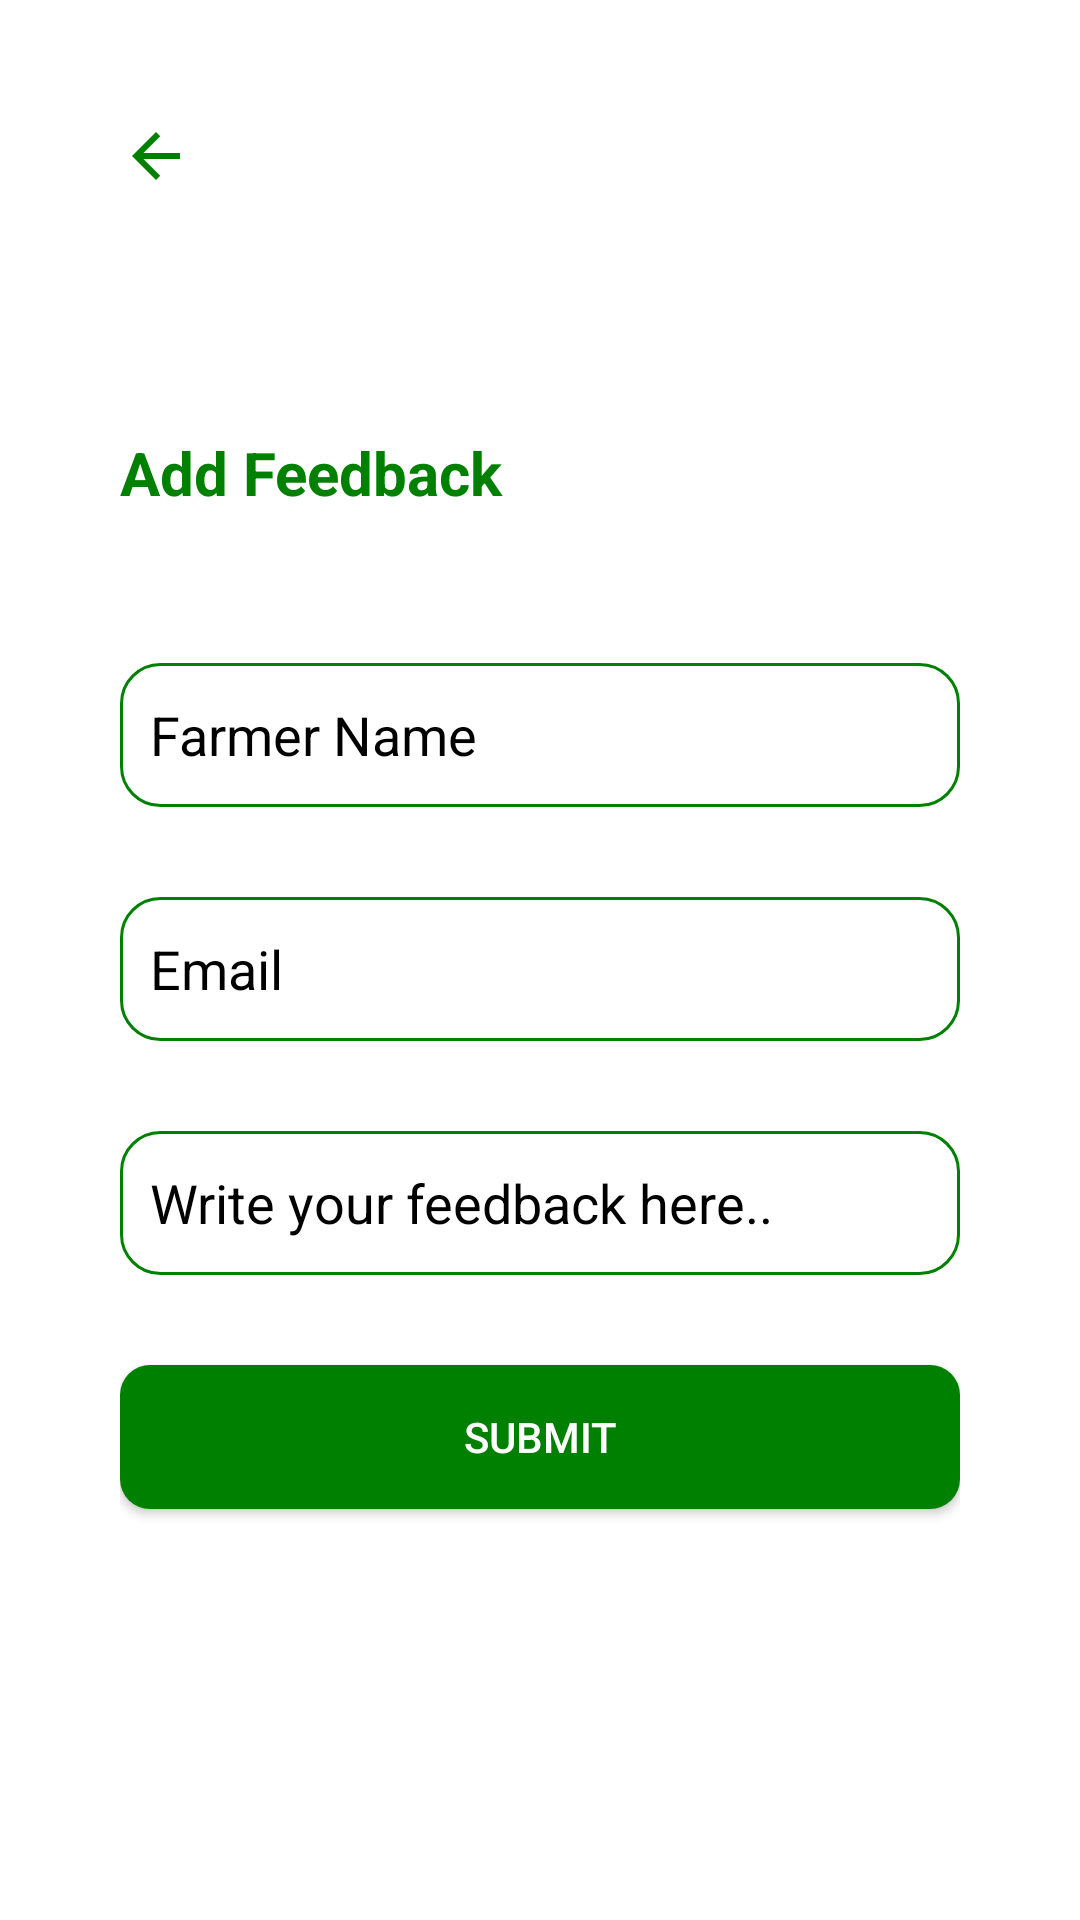

Icon bounding boxes for this 1080×1920 phone screenshot, format (left=x1, top=y1, right=x2, bottom=y2):
arrow back: (left=132, top=132, right=180, bottom=180)
